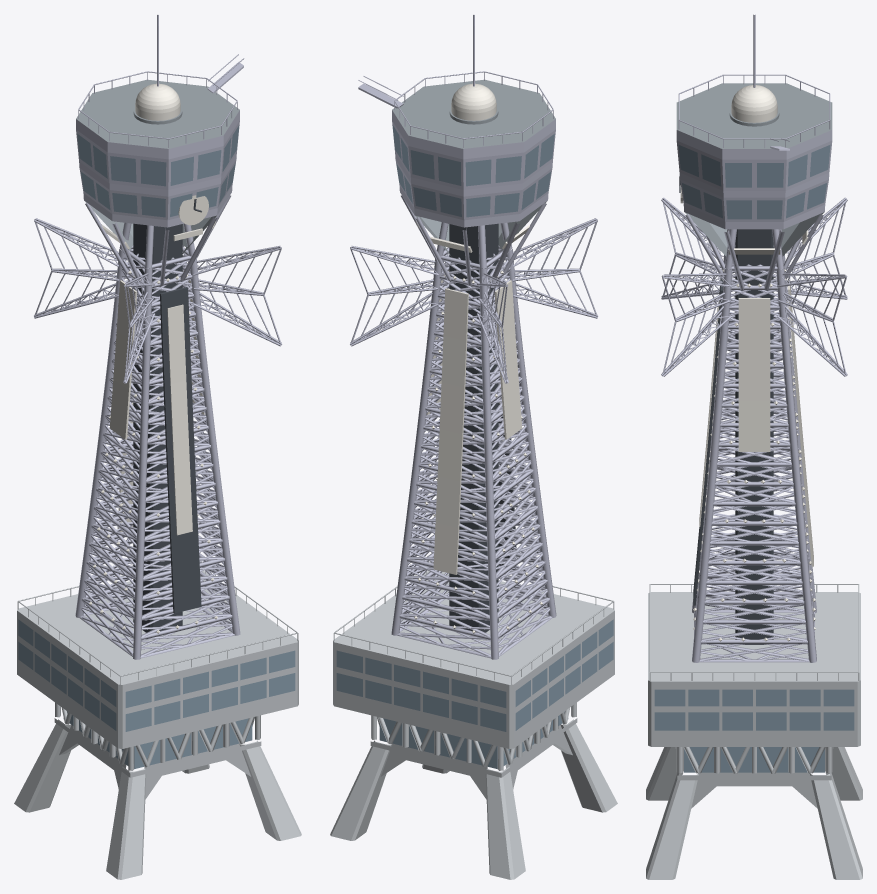
Rendered from osaka-tsutenkaku.detail.glb.
3 renders of one model, left to right at view 1: azimuth 30°, elevation 25°; view 2: azimuth 150°, elevation 25°; view 3: azimuth 270°, elevation 25°, orthographic.
Parts seen in each view (by area): view 1: Tsutenkaku; view 2: Tsutenkaku; view 3: Tsutenkaku.
Boxes of the visible parts, x1,y1,x2,y2 form: Tsutenkaku: (14, 15, 301, 879); Tsutenkaku: (330, 15, 617, 879); Tsutenkaku: (646, 14, 862, 879).
Bounding box in the file's own units: 26.77 × 108 × 25.9.
